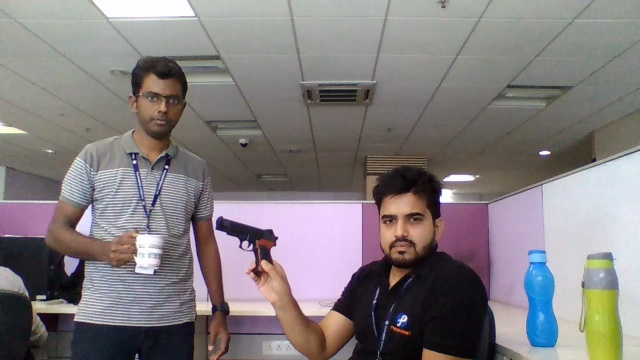gun: (212, 214, 278, 258)
